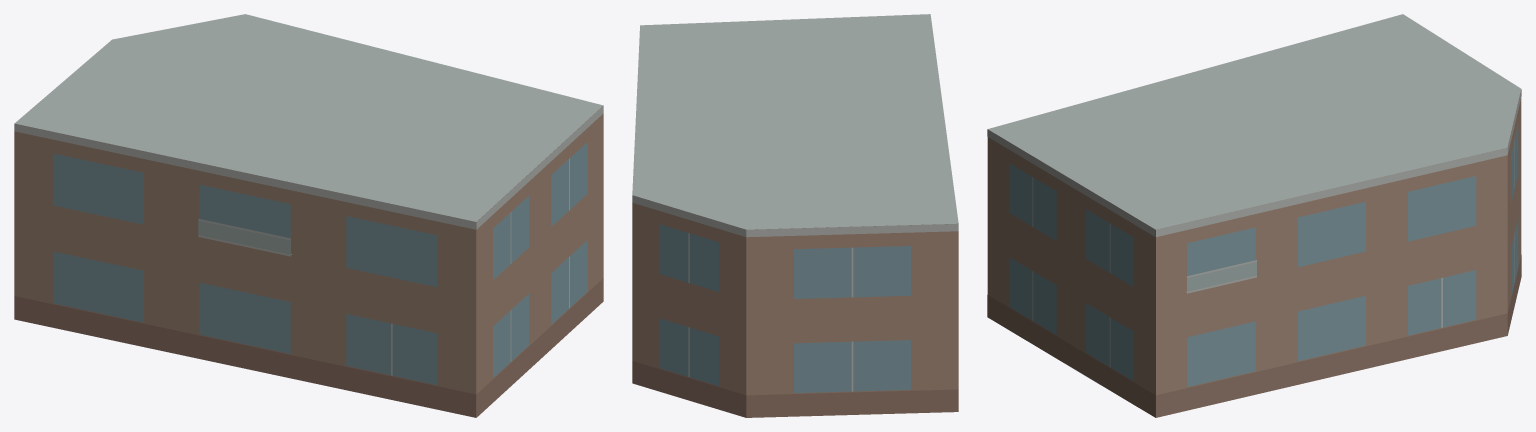
The model's file is survey-upis-32767198.glb.
The picture shows the model from 3 angles, left to right: view 1: azimuth 30°, elevation 25°; view 2: azimuth 150°, elevation 25°; view 3: azimuth 270°, elevation 25°; orthographic projection. The views are drawn at different scales.
Parts seen in each view (by area): view 1: survey-upis-32767198.tmp; view 2: survey-upis-32767198.tmp; view 3: survey-upis-32767198.tmp.
Part boxes in pixels (x1,y1,x2,y2): survey-upis-32767198.tmp: (14,14,603,417); survey-upis-32767198.tmp: (632,14,958,417); survey-upis-32767198.tmp: (987,14,1521,417).
Bounding box in the file's own units: 15.01 × 6.1 × 15.7.
